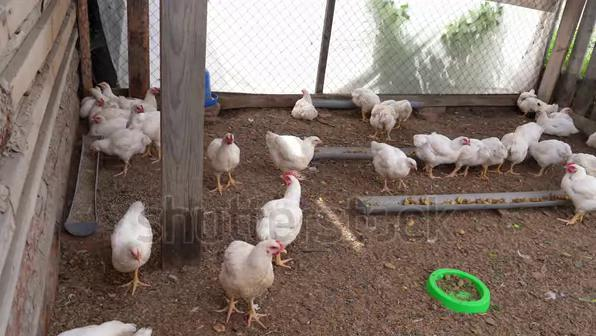Pollos: (218, 235, 289, 300), (256, 171, 303, 235), (112, 200, 151, 272), (264, 128, 322, 171), (366, 140, 417, 184), (90, 129, 152, 161), (560, 161, 596, 216), (421, 134, 471, 166), (208, 130, 242, 172), (522, 137, 571, 165), (86, 98, 131, 128), (372, 99, 414, 129), (542, 105, 582, 135), (478, 136, 509, 172), (289, 86, 321, 119), (131, 103, 163, 132), (351, 85, 381, 108)
